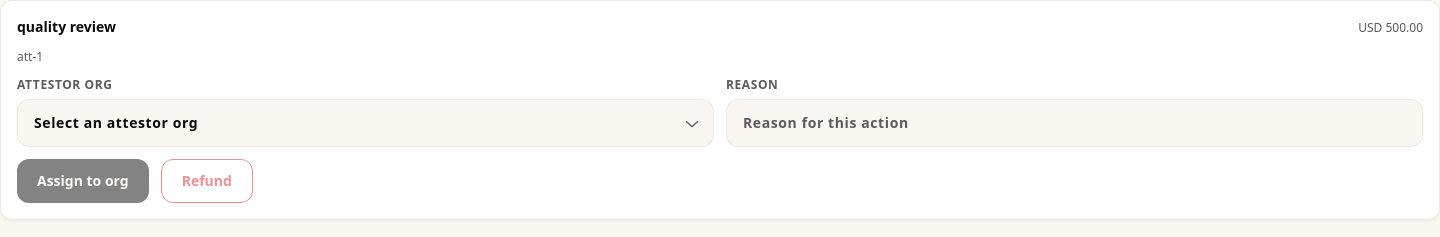
NeedsAdminRow › keeps Assign disabled until an org is picked, but allows Refund
Type "Manual dispatch." into the field with placeholder "Reason for this action" at (1074, 123), box [726,99,1423,147]
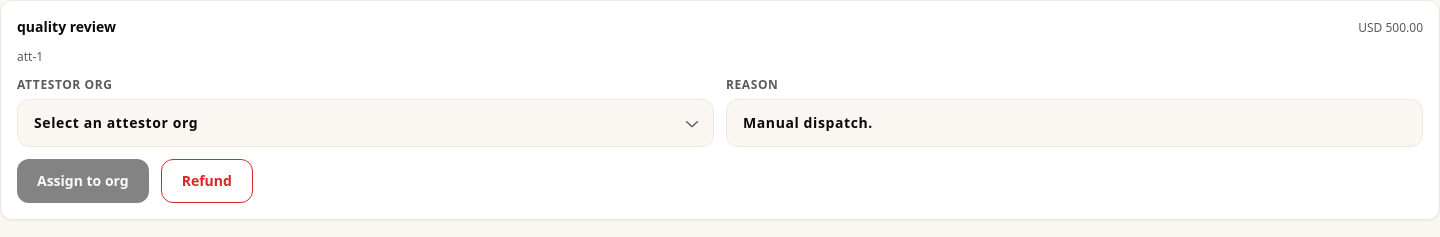
Expected: the button "Assign to org" is disabled, [17,159,149,203]
Now the button "Refund" is enabled, box [161,159,253,203]
